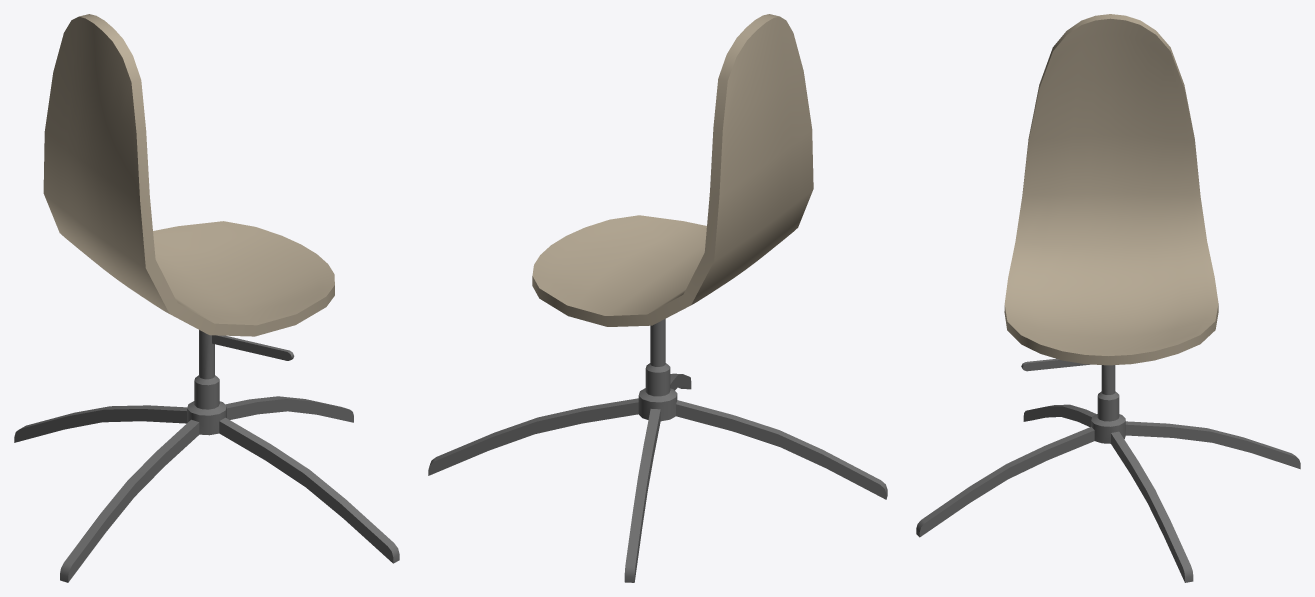
File: chair.fbx
The picture shows the model from 3 angles, left to right: view 1: azimuth 30°, elevation 25°; view 2: azimuth 150°, elevation 25°; view 3: azimuth 270°, elevation 25°; orthographic projection. The views are drawn at different scales.
Visible parts, largest first — view 1: chair; view 2: chair; view 3: chair.
Part boxes in pixels (x1,y1,x2,y2): chair: (14,14,399,582); chair: (428,14,887,582); chair: (916,14,1300,582).
Size of the model in its own units: 124 by 156 by 124.
